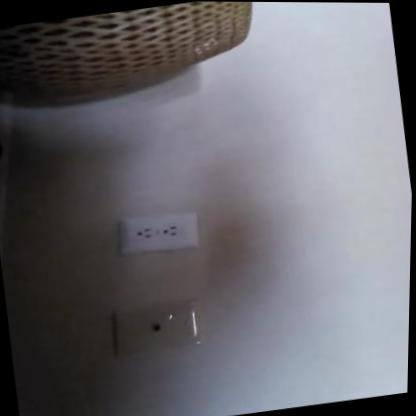OUTLET: (117, 207, 202, 258)
